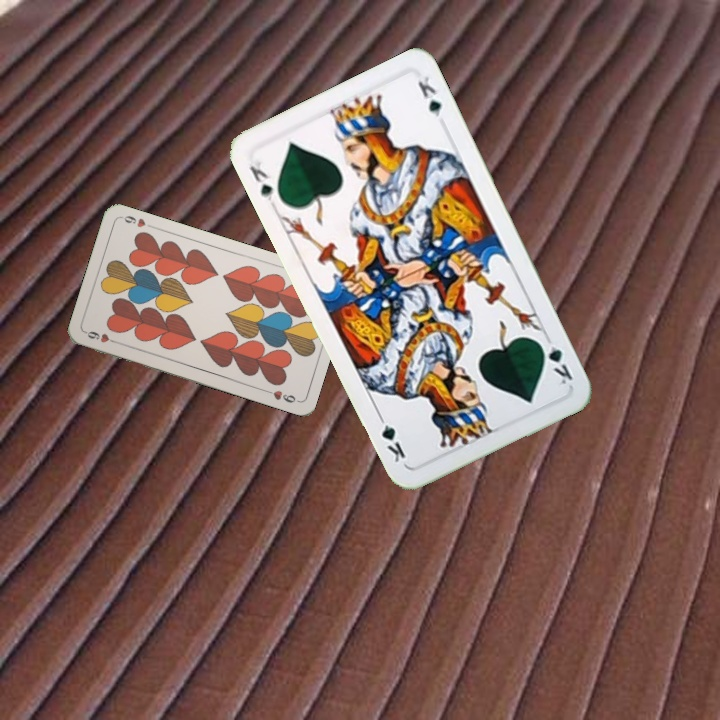GK: (534, 337, 576, 389), (245, 156, 276, 204)
H9: (82, 327, 121, 346)
